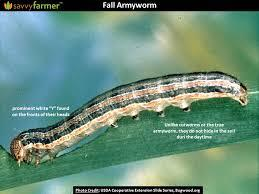fallarmy_worm: (4, 67, 259, 167)
